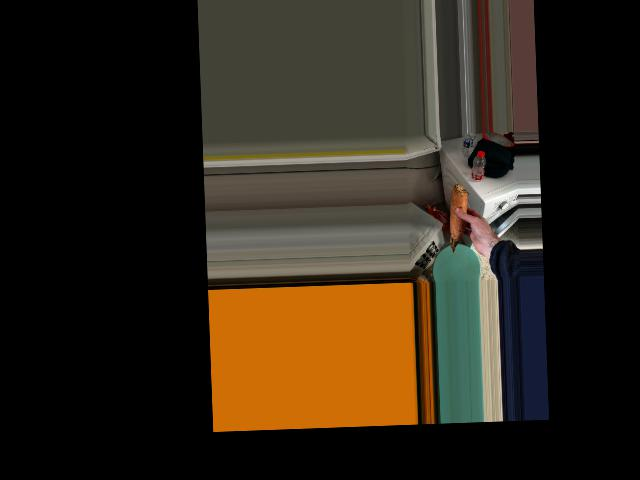sweet_potato: (449, 184, 470, 249)
